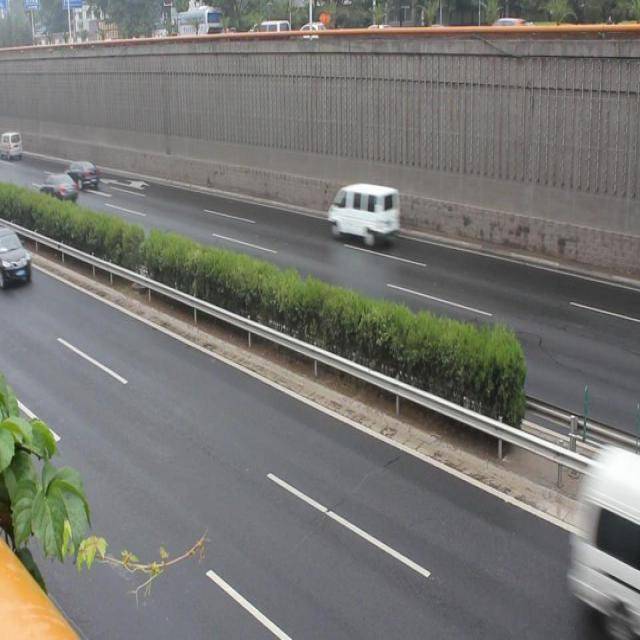car: (1, 226, 37, 286)
truck: (562, 430, 640, 632), (330, 174, 406, 249)
